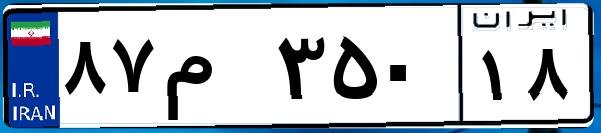0: (385, 28, 445, 110)
1: (475, 38, 525, 113)
3: (270, 28, 330, 110)
5: (330, 28, 385, 110)
7: (110, 28, 158, 98)
8: (57, 26, 110, 100), (525, 38, 570, 115)
م: (158, 20, 270, 120)
